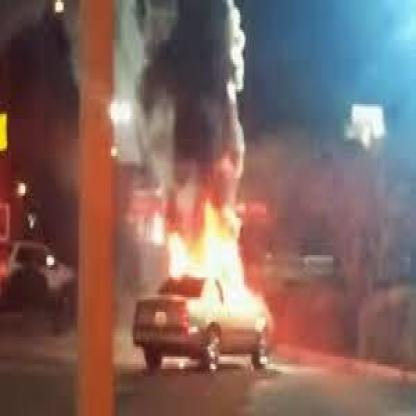fire: (151, 200, 272, 332)
